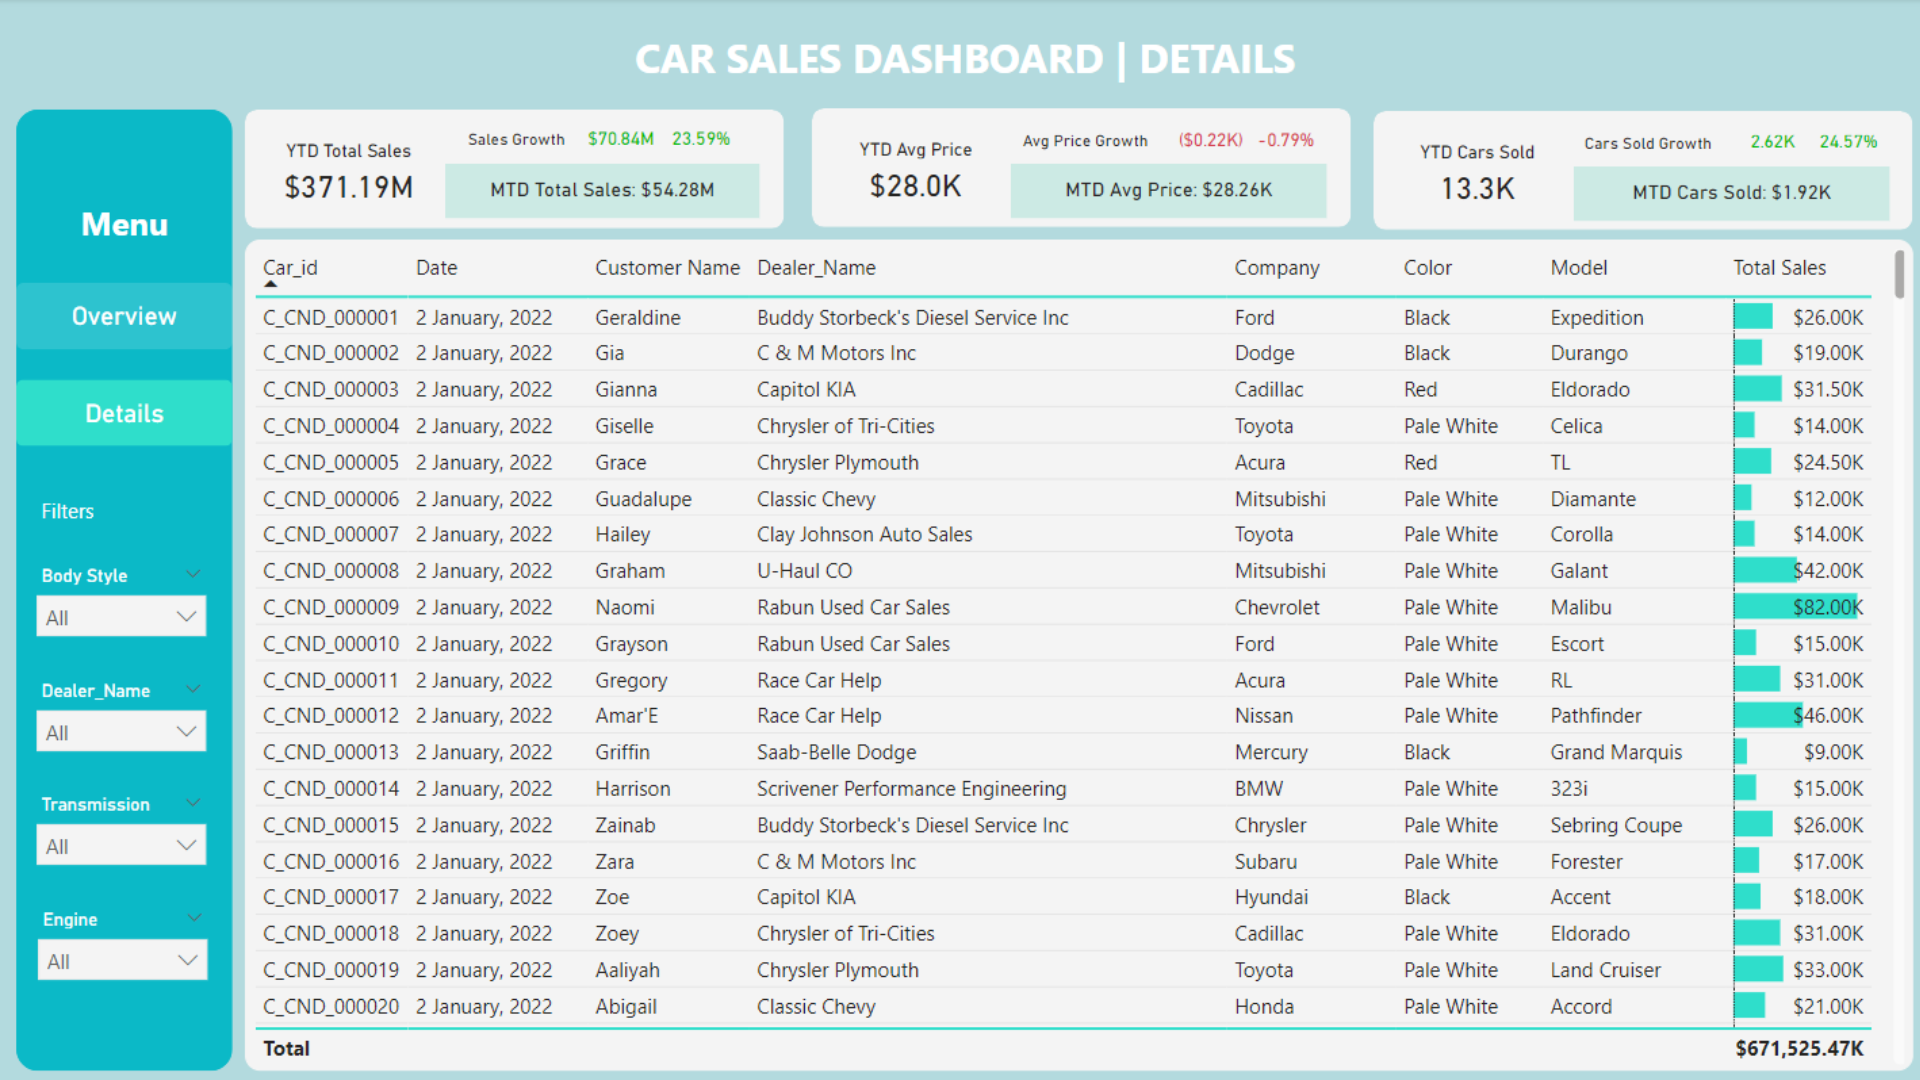

What the dashboard file says about the page in this screenshot:
{"tool":"powerbi","page":{"name":"Details","canvas":[1280,720],"ordinal":1},"visuals":[{"type":"shape","box":[165.8,73.4,356.7,78.7],"z":0},{"type":"tableEx","title":"Company wise Sales Trend","fields":{"Values":["car_data.Car_id","car_data.Date","car_data.Customer Name","car_data.Dealer_Name","car_data.Company","car_data.Color","car_data.Model","Model Measures.Total Sales"]},"box":[165.8,159.5,1103.7,549.8],"z":1000},{"type":"slicer","fields":{"Values":["car_data.Body Style"]},"box":[18,370,131.7,75.8],"z":2000,"group":"g1"},{"type":"card","title":"YTD Total Sales","fields":{"Values":["Model Measures.YTD Total Sales"]},"box":[178.4,78.7,112.3,72.4],"z":2000},{"type":"slicer","fields":{"Values":["car_data.Dealer_Name"]},"box":[18,445.8,131.7,75.8],"z":3000,"group":"g1"},{"type":"card","fields":{"Values":["Model Measures.MTD KPI"]},"box":[298.1,109.6,208.2,35.7],"z":3000},{"type":"card","title":"YTD Total Sales","fields":{"Values":["Model Measures.Sales Difference"]},"box":[385,73.4,58.8,37.8],"z":4000},{"type":"slicer","fields":{"Values":["car_data.Transmission"]},"box":[18,521.6,131.7,75.8],"z":4000,"group":"g1"},{"type":"card","title":"YTD Total Sales","fields":{"Values":["Model Measures.YoY Sales Growth"]},"box":[439.6,73.4,55.6,37.8],"z":5000},{"type":"slicer","fields":{"Values":["car_data.Engine"]},"box":[19,597.5,131.7,75.8],"z":5000,"group":"g1"},{"type":"textbox","box":[298,77.6,94.4,35.7],"z":6000},{"type":"shape","box":[540.9,73,356.7,78.7],"z":7000},{"type":"card","title":"YTD Avg Price","fields":{"Values":["Model Measures.YTD Avg Price"]},"box":[553.5,78.2,112.3,72.4],"z":8000},{"type":"card","fields":{"Values":["Model Measures.MTD Avg Price KPI"]},"box":[672.6,109.6,209.4,35.7],"z":9000},{"type":"card","title":"YTD Total Sales","fields":{"Values":["Model Measures.Avg Price Diff"]},"box":[775.3,74.5,58.8,37.8],"z":10000},{"type":"card","title":"YTD Total Sales","fields":{"Values":["Model Measures.YoT Avg Price Growth"]},"box":[826.8,74.5,55.6,37.8],"z":11000},{"type":"textbox","box":[666.2,78.7,111.2,34.6],"z":12000},{"type":"shape","box":[912.9,74.6,356.7,78.7],"z":13000},{"type":"card","title":"YTD Cars Sold","fields":{"Values":["Model Measures.YTD Cars Sold"]},"box":[925.4,79.8,112.3,72.4],"z":14000},{"type":"card","fields":{"Values":["Model Measures.MTD Cars Sold KPI"]},"box":[1044.7,110.9,209.4,35.7],"z":15000},{"type":"card","title":"YTD Total Sales","fields":{"Values":["Model Measures.Cars Sold Diff"]},"box":[1146.9,75.1,59.1,37],"z":16000},{"type":"card","title":"YTD Total Sales","fields":{"Values":["Model Measures.YoT Cars Sold Growth"]},"box":[1198.7,75.1,55.4,37],"z":17000},{"type":"textbox","box":[1039,81,111,34],"z":18000},{"type":"textbox","box":[14,15,1256,51],"z":19000},{"type":"shape","box":[14,73,143,636],"z":20000},{"type":"group","id":"g1","title":"Group 1","box":[18,370,133,304],"z":21000},{"type":"pageNavigator","box":[14,188,143,109],"z":22000},{"type":"textbox","box":[14,129,143,45],"z":23000},{"type":"textbox","box":[26,325,47,45],"z":24000}]}

Visuals, with their boxes in screenshot pixels (x1, y1, x2, y2), scaled from the page's 1280x720 canvas onto the 1920x1080 screenshot:
shape: 249, 110, 784, 228
"Company wise Sales Trend" tableEx: 249, 239, 1904, 1064
slicer - car_data.Body Style: 27, 555, 225, 669
"YTD Total Sales" card: 268, 118, 436, 227
slicer - car_data.Dealer_Name: 27, 669, 225, 782
card - Model Measures.MTD KPI: 447, 164, 759, 218
"YTD Total Sales" card: 578, 110, 666, 167
slicer - car_data.Transmission: 27, 782, 225, 896
"YTD Total Sales" card: 659, 110, 743, 167
slicer - car_data.Engine: 28, 896, 226, 1010
textbox: 447, 116, 589, 170
shape: 811, 110, 1346, 228
"YTD Avg Price" card: 830, 117, 999, 226
card - Model Measures.MTD Avg Price KPI: 1009, 164, 1323, 218
"YTD Total Sales" card: 1163, 112, 1251, 168
"YTD Total Sales" card: 1240, 112, 1324, 168
textbox: 999, 118, 1166, 170
shape: 1369, 112, 1904, 230
"YTD Cars Sold" card: 1388, 120, 1557, 228
card - Model Measures.MTD Cars Sold KPI: 1567, 166, 1881, 220
"YTD Total Sales" card: 1720, 113, 1809, 168
"YTD Total Sales" card: 1798, 113, 1881, 168
textbox: 1558, 122, 1725, 172
textbox: 21, 22, 1905, 99
shape: 21, 110, 236, 1064
"Group 1" group: 27, 555, 226, 1011
pageNavigator: 21, 282, 236, 446
textbox: 21, 194, 236, 261
textbox: 39, 488, 110, 555
